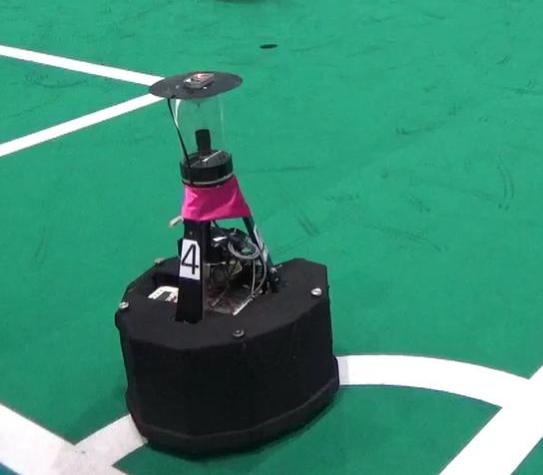robot: (111, 69, 347, 462)
